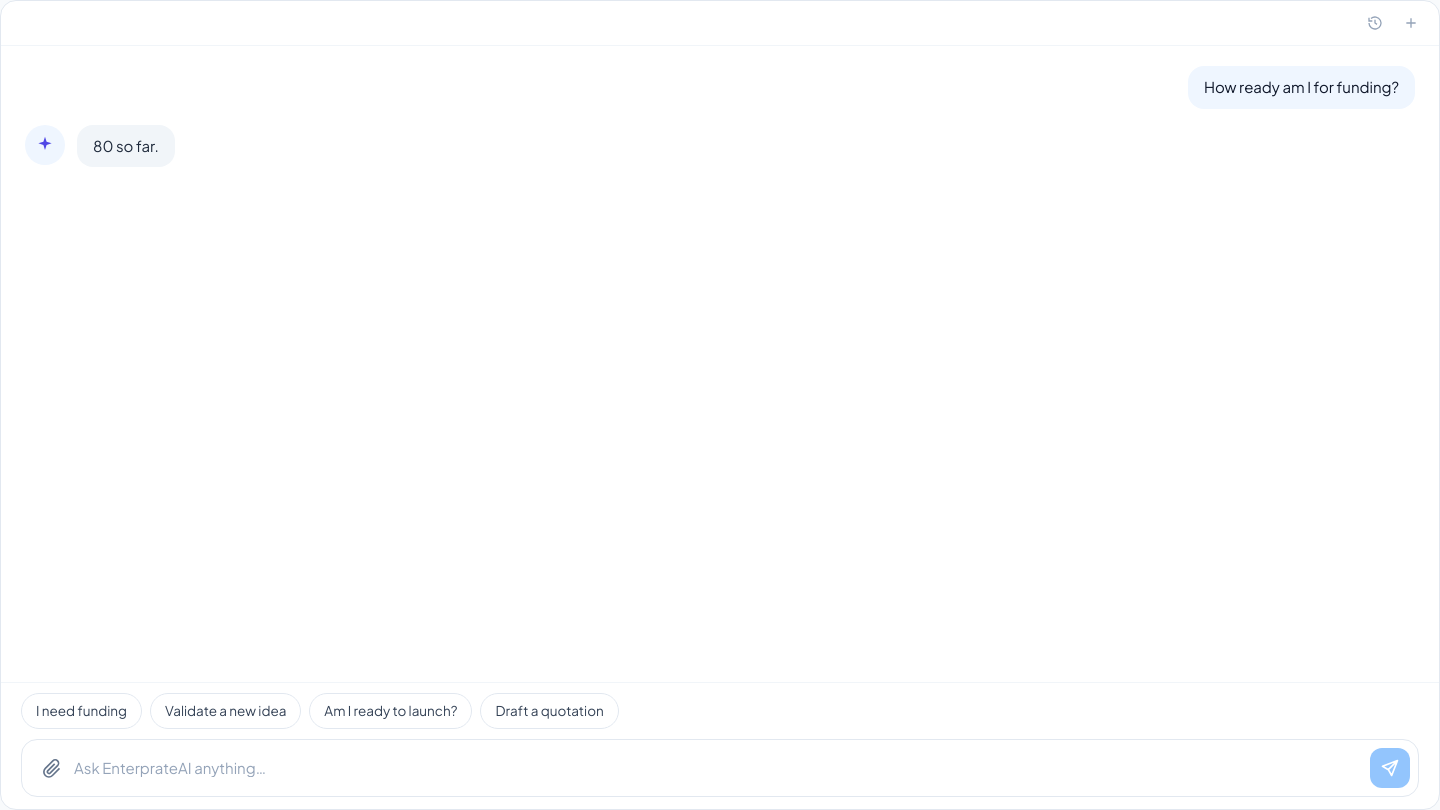
reopens the current conversation, named for itself, and History opens an earlier one
Expected: the text "80 so far." is shown, x1=77 y1=124 x2=175 y2=167
Expected: the text "How ready am I for funding?" is shown, x1=1188 y1=66 x2=1415 y2=108
Step 1. Click the button named "History" → (1375,23), box x1=1359 y1=7 x2=1391 y2=39
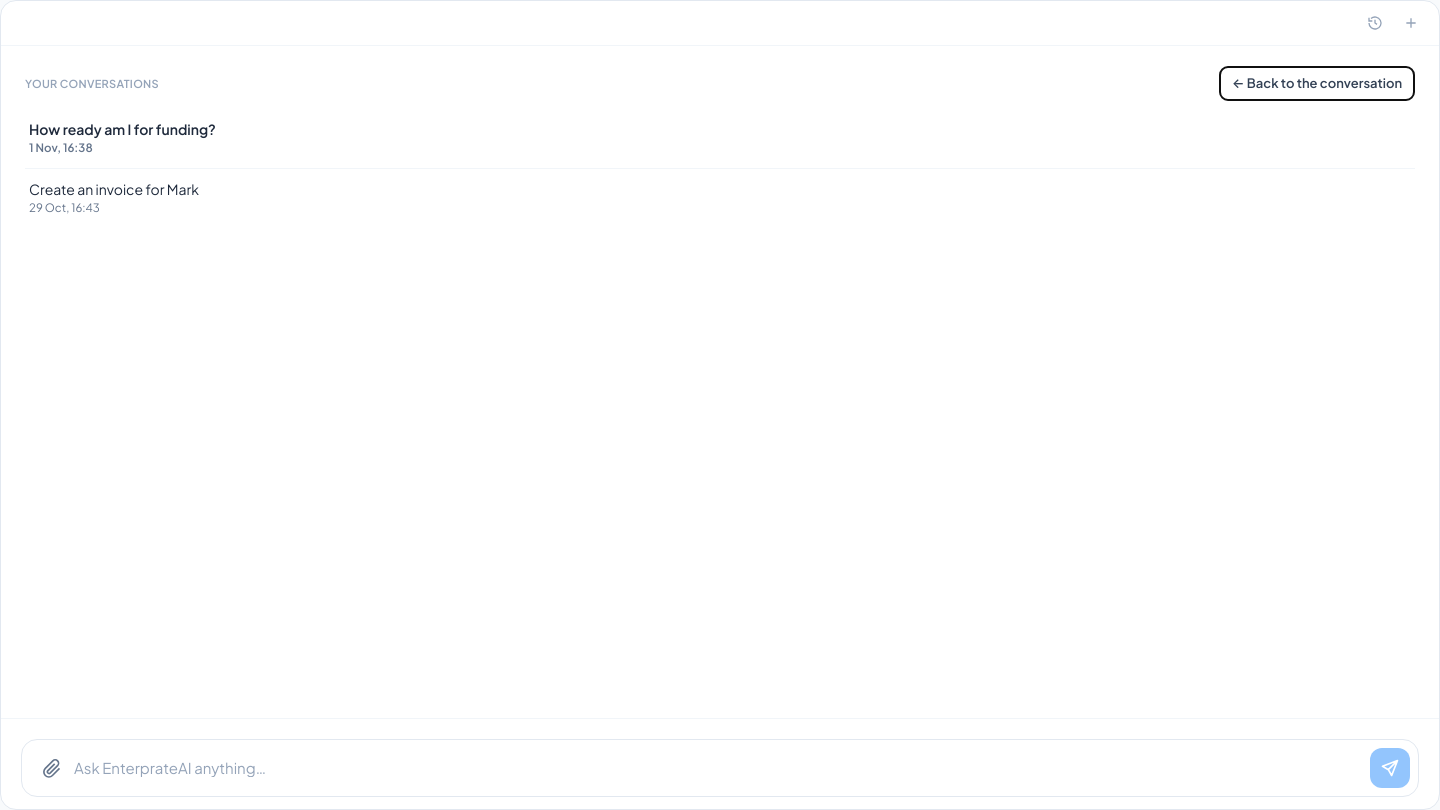
Step 2. Click the button "Create an invoice for Mark 29 Oct, 16:43" → (114,189), box x1=25 y1=169 x2=1415 y2=228
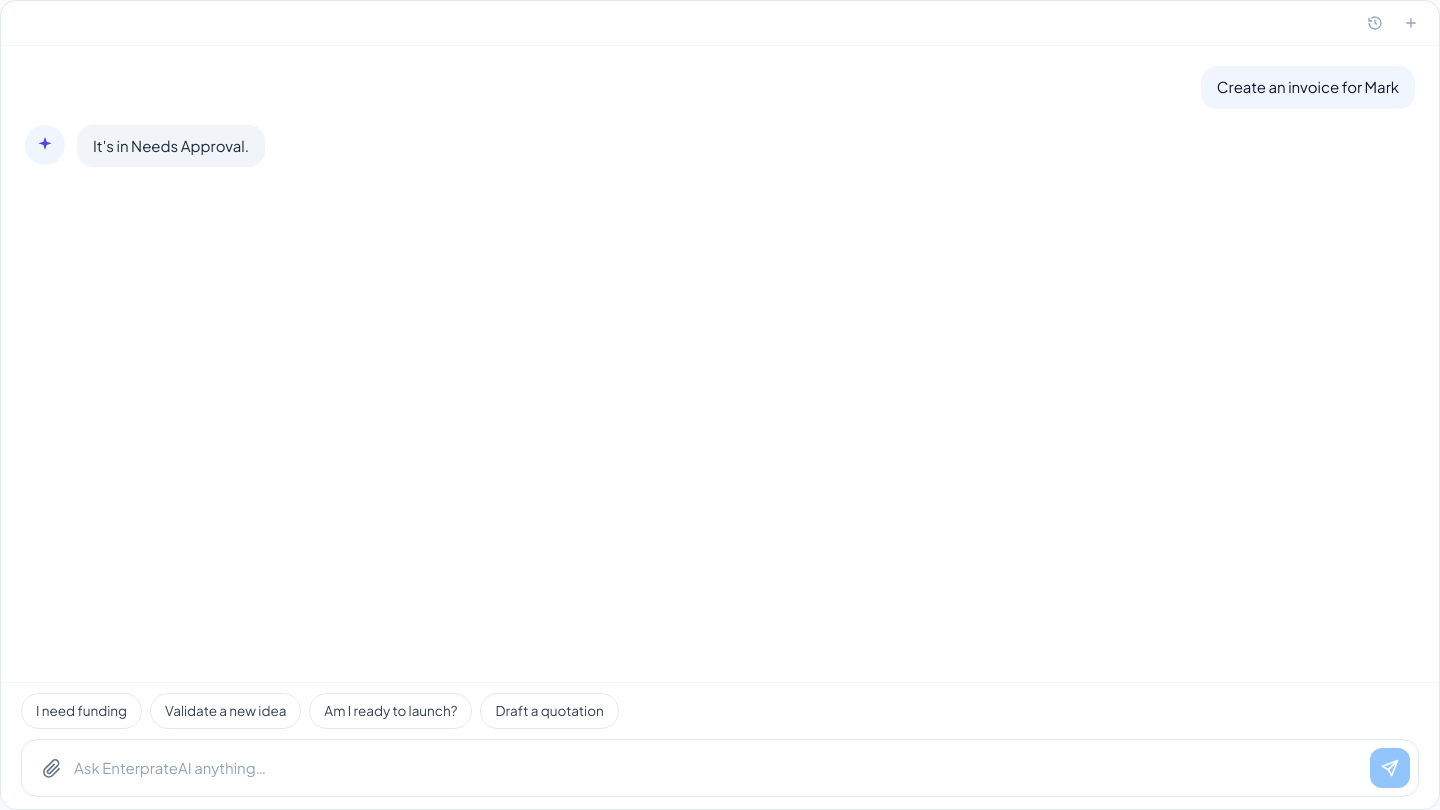
Expected: the text "80 so far." is not shown
Result: the text "It's in Needs Approval." is shown at x1=77 y1=124 x2=265 y2=167
